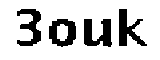3: (15, 4, 45, 50)
k: (117, 2, 152, 51)
o: (49, 16, 77, 52)
u: (82, 15, 114, 50)
